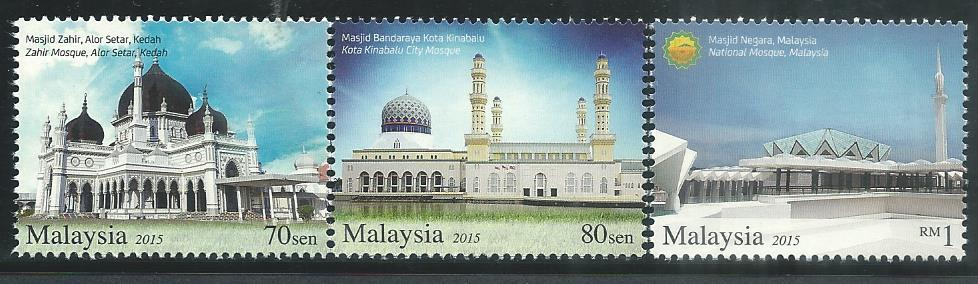Mosque: (38, 51, 300, 231), (340, 52, 617, 193), (674, 65, 954, 185)
